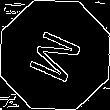M_SE: (22, 23, 88, 87)
